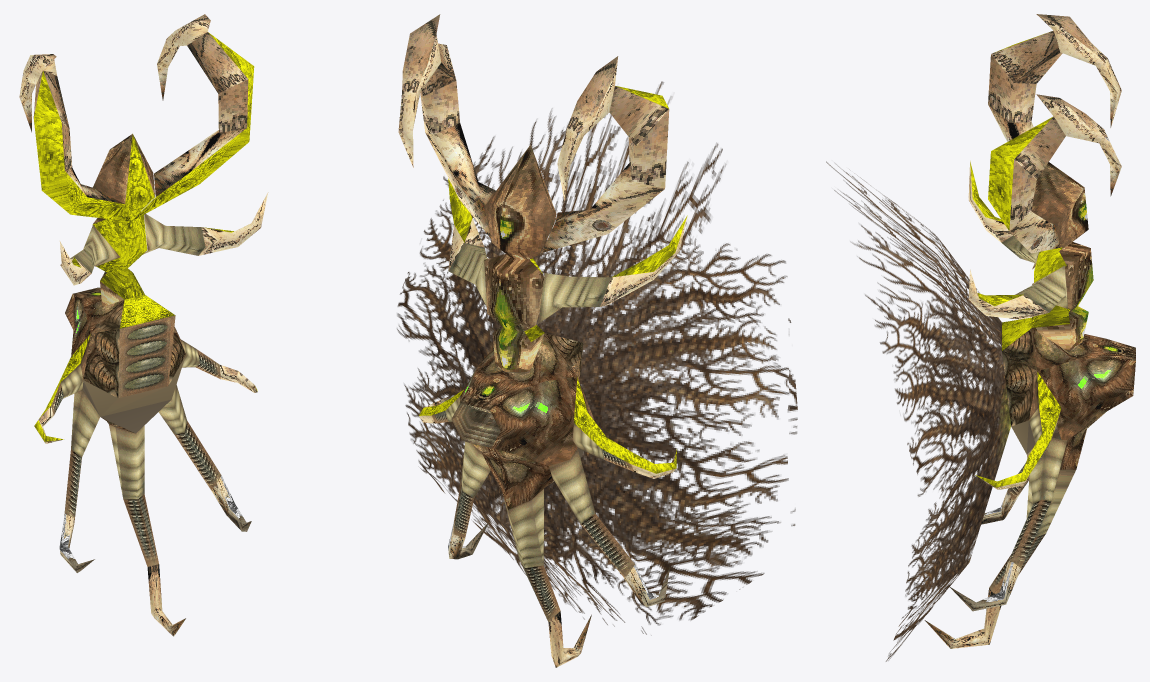
File: mblast_cmp.gltf
3 renders of one model, left to right at view 1: azimuth 30°, elevation 25°; view 2: azimuth 150°, elevation 25°; view 3: azimuth 270°, elevation 25°, orthographic. The views are drawn at different scales.
Parts seen in each view (by area): view 1: Root, M_plat_explosive; view 2: roots, Root, M_plat_explosive; view 3: roots, Root, M_plat_explosive.
Part boxes in pixels (x1,y1,x2,y2): Root: [34, 133, 257, 636]; M_plat_explosive: [19, 14, 268, 285]; roots: [396, 81, 797, 635]; Root: [419, 145, 676, 667]; M_plat_explosive: [398, 14, 687, 323]; roots: [826, 161, 1010, 661]; Root: [924, 162, 1135, 648]; M_plat_explosive: [968, 14, 1121, 319].
Size of the model in its own units: 29.64 by 45.99 by 21.67.
10 materials, 10 textured.
